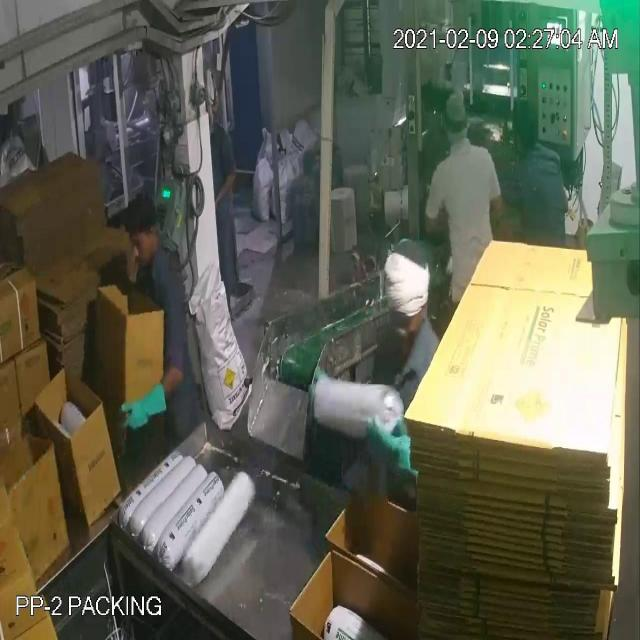Gloves: (22, 46, 394, 452)
